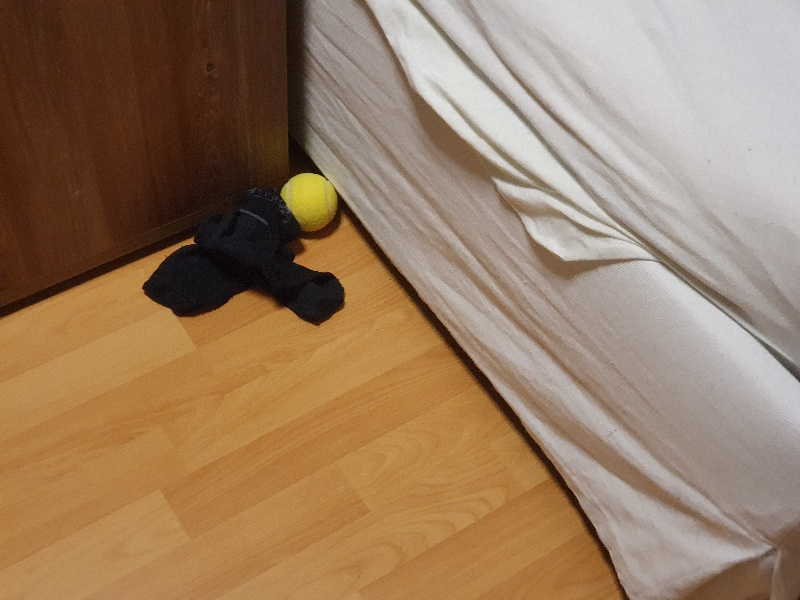Tennisball: (273, 172, 346, 241)
